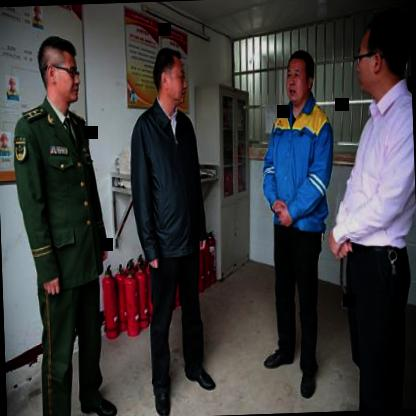head: (352, 3, 410, 102), (34, 32, 82, 109), (151, 40, 188, 113), (283, 46, 318, 108)
